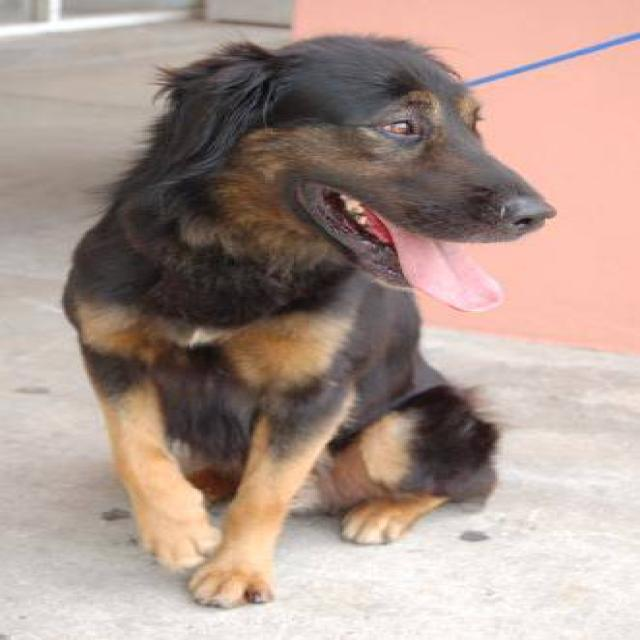Dog: (107, 20, 575, 326)
